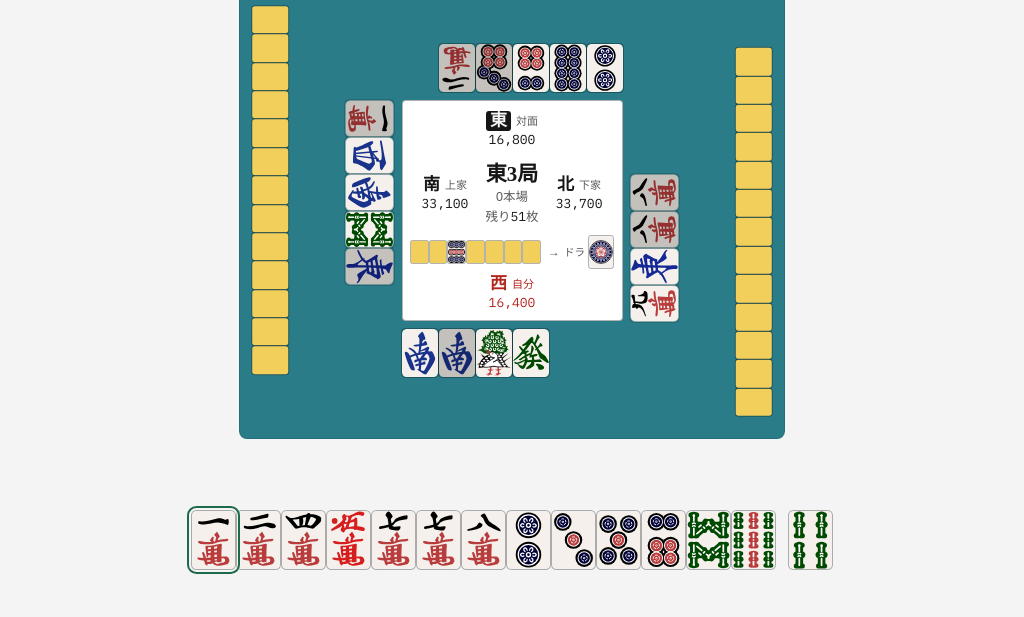
Test: 「他家の手牌」の欄（開いているときだけ。牌の並びは盤面） › 見出し・説明のアイコン・下家／対面／上家の 3 人の行。席の札（風・親・リーチ）。牌の並び（.oh-hand）は出さない
Click the button named "を切る": point(214, 540) [192,512,235,569]
(page scrolled)
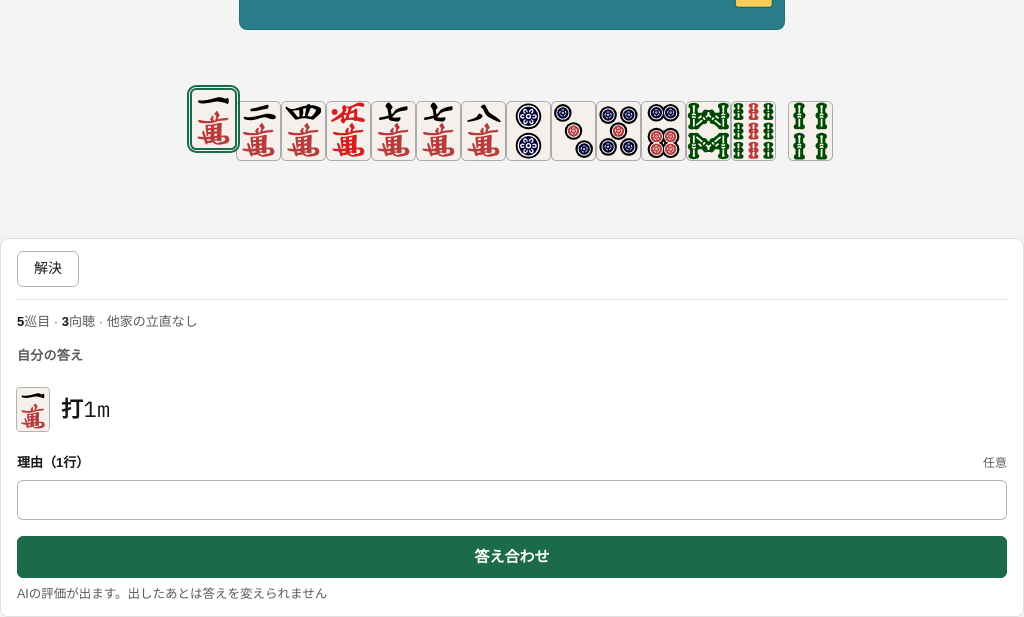
In the field labelled "理由（1行）": point(512, 500) [17,480,1007,520], type "待ちを見て選んだ"
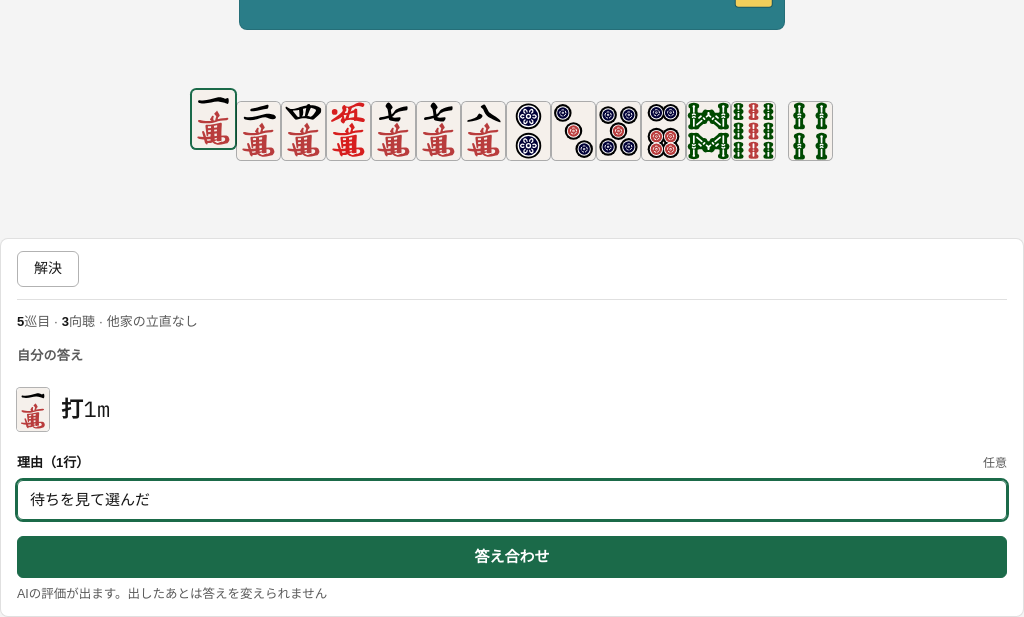
Click the button "答え合わせ": point(512, 557) [17,536,1007,578]
(page scrolled)
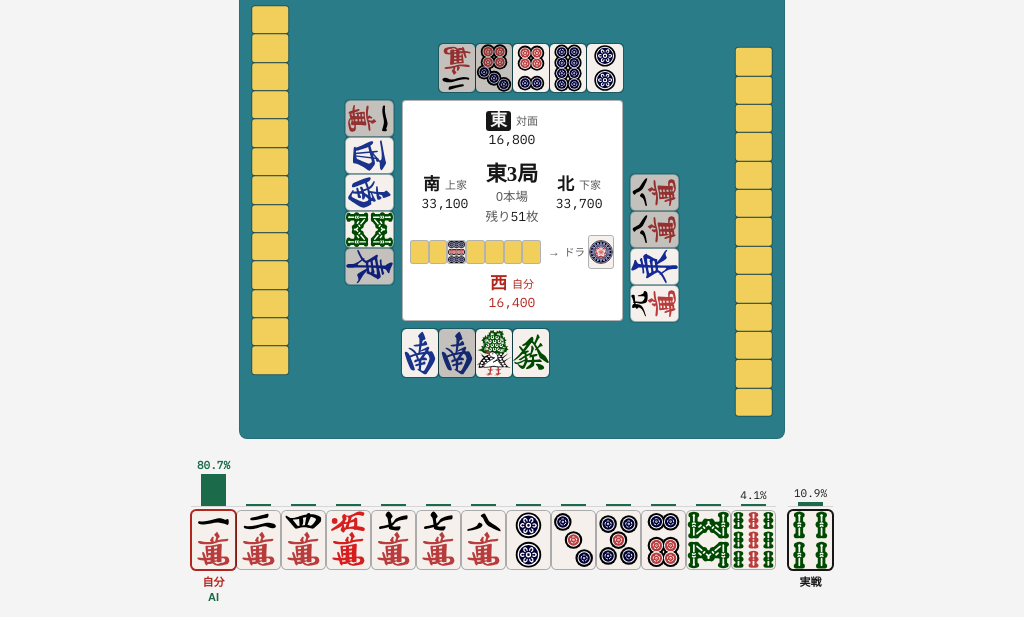
Click the 3rd button with class "ohand": point(754, 211) [732,3,775,419]
(page scrolled)
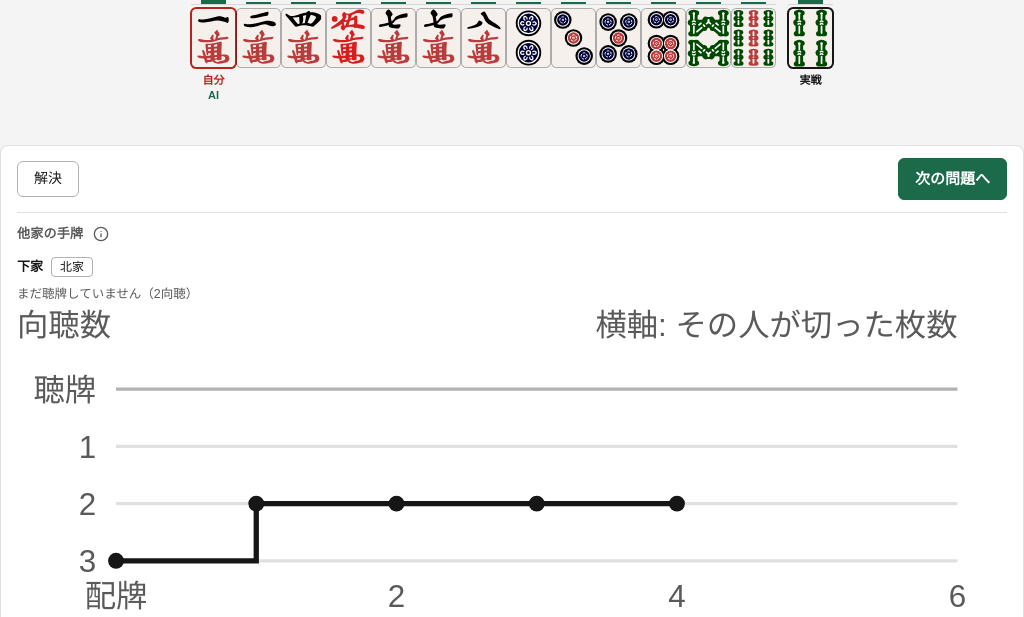
Check: the heading "他家の手牌" is shown, box [17,225,83,243]
Check: the button named "他家の手牌の説明" is shown, box [87,220,115,248]
